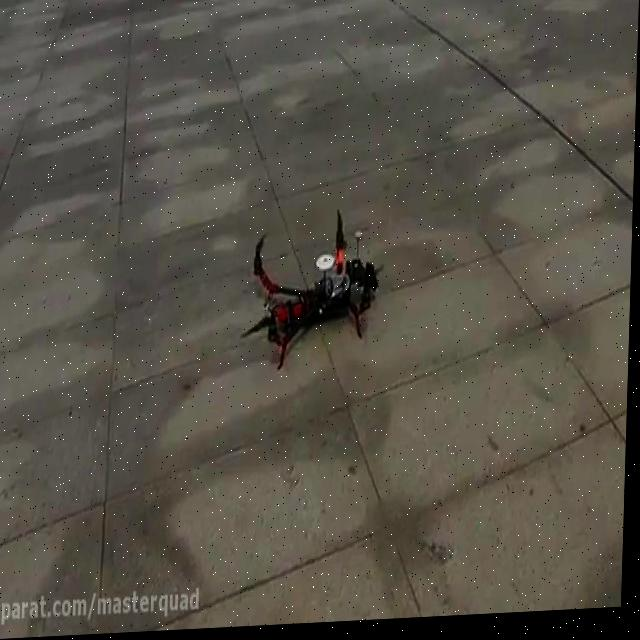drone: (238, 204, 390, 377)
